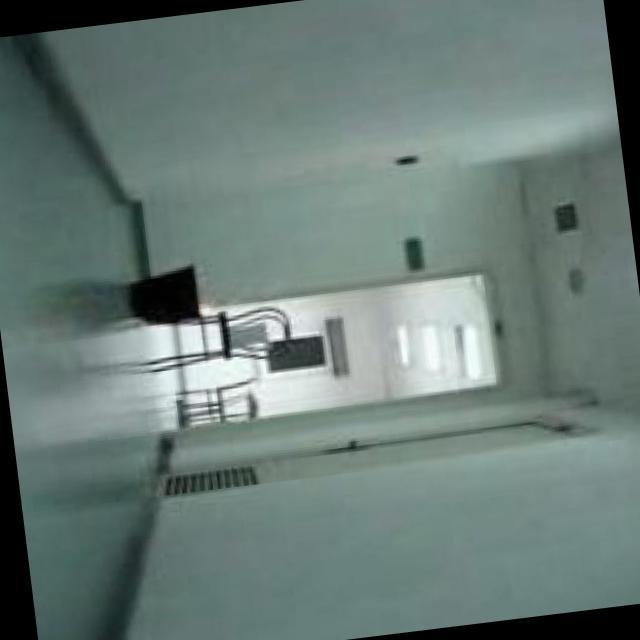Fire: (190, 297, 214, 314)
